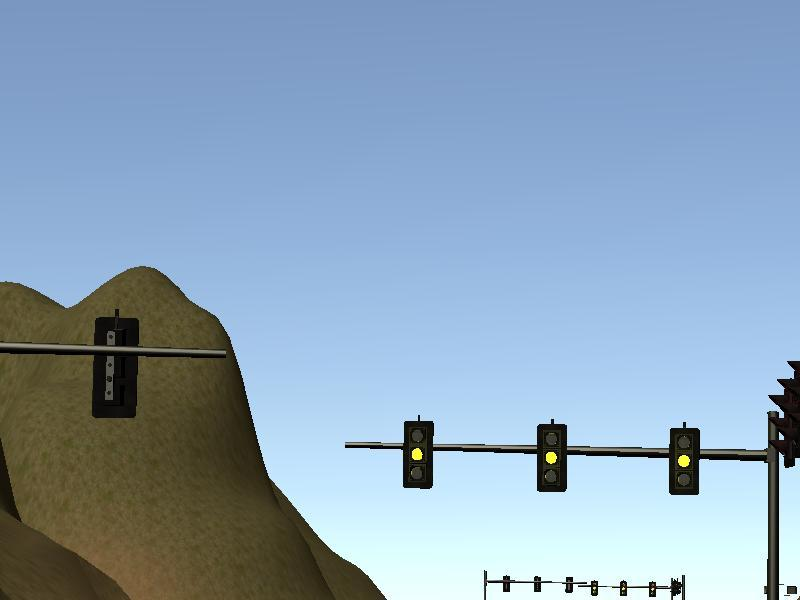Yellow: (668, 428, 700, 495), (536, 424, 566, 493), (403, 421, 433, 490)
